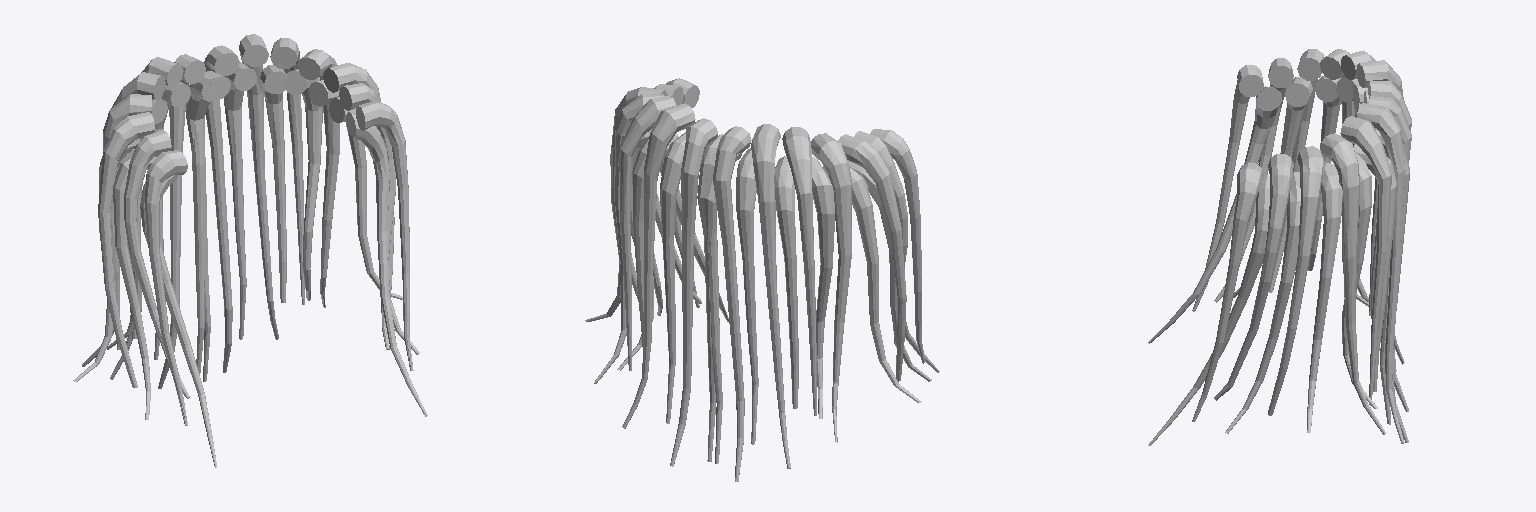
File: Hair.obj
3 renders of one model, left to right at view 1: azimuth 30°, elevation 25°; view 2: azimuth 150°, elevation 25°; view 3: azimuth 270°, elevation 25°, orthographic.
Visible parts, largest first — view 1: Hair_Cube.002; view 2: Hair_Cube.002; view 3: Hair_Cube.002.
Boxes of the visible parts, x1,y1,x2,y2 form: Hair_Cube.002: [73, 34, 427, 467]; Hair_Cube.002: [585, 78, 939, 481]; Hair_Cube.002: [1148, 49, 1411, 445].
Size of the model in its own units: 9.13 by 8.88 by 6.21.